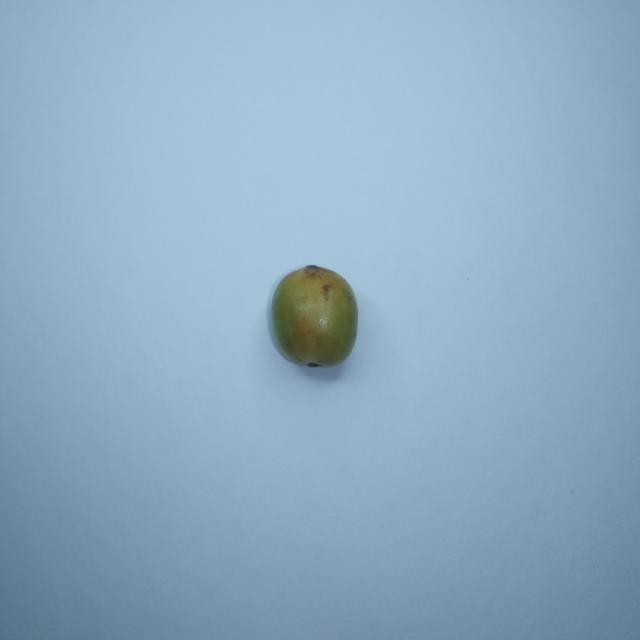Sano: (271, 265, 357, 367)
